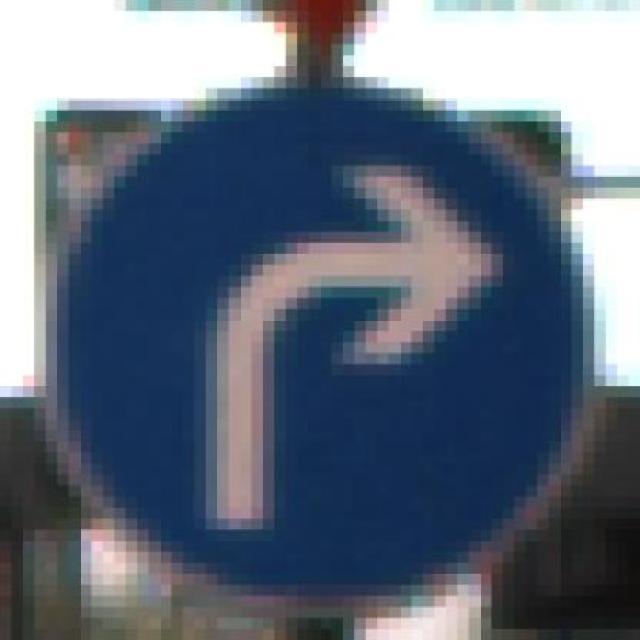Turn right ahead: (34, 77, 617, 618)
